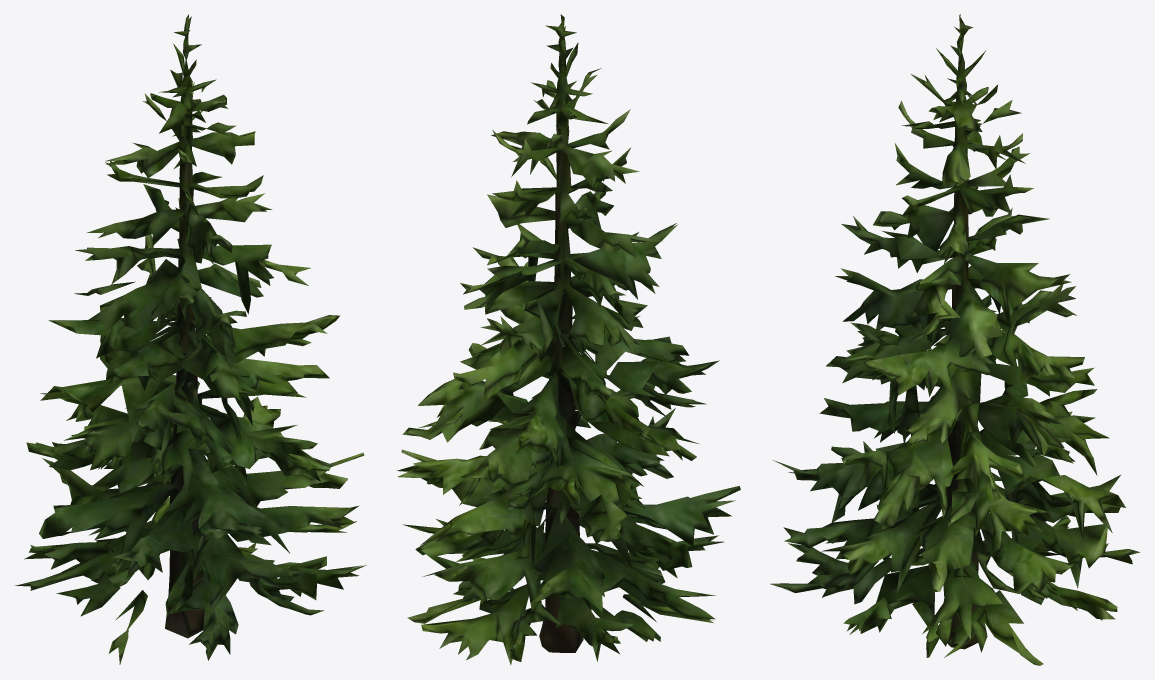
File: baum_fichte.glb
The picture shows the model from 3 angles, left to right: view 1: azimuth 30°, elevation 25°; view 2: azimuth 150°, elevation 25°; view 3: azimuth 270°, elevation 25°; orthographic projection. The views are drawn at different scales.
Visible parts, largest first — view 1: tripo_node_8d0c5244-4264-41dc-a73e-2e380a4e86c7; view 2: tripo_node_8d0c5244-4264-41dc-a73e-2e380a4e86c7; view 3: tripo_node_8d0c5244-4264-41dc-a73e-2e380a4e86c7.
Part boxes in pixels (x1=…): tripo_node_8d0c5244-4264-41dc-a73e-2e380a4e86c7: x1=15, y1=14, x2=366, y2=664; tripo_node_8d0c5244-4264-41dc-a73e-2e380a4e86c7: x1=396, y1=14, x2=740, y2=665; tripo_node_8d0c5244-4264-41dc-a73e-2e380a4e86c7: x1=770, y1=14, x2=1140, y2=665.
Bounding box in the file's own units: 0.5344 × 0.9559 × 0.5136.
1 material, 1 textured.
